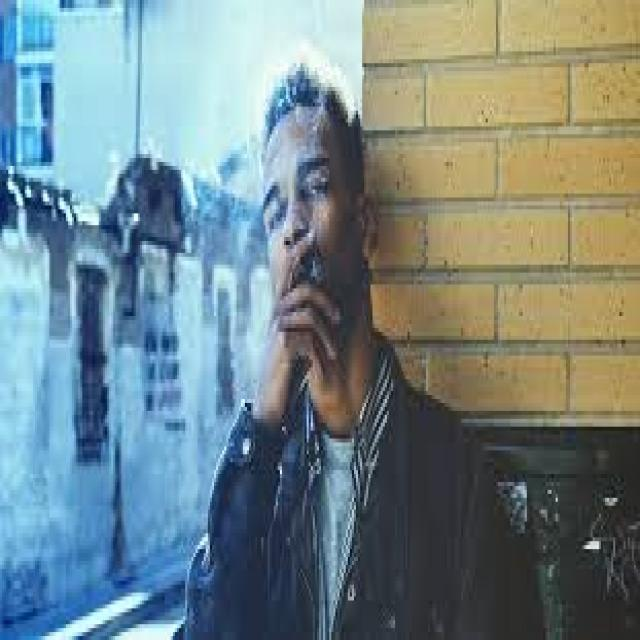Smoke: (205, 28, 334, 296)
